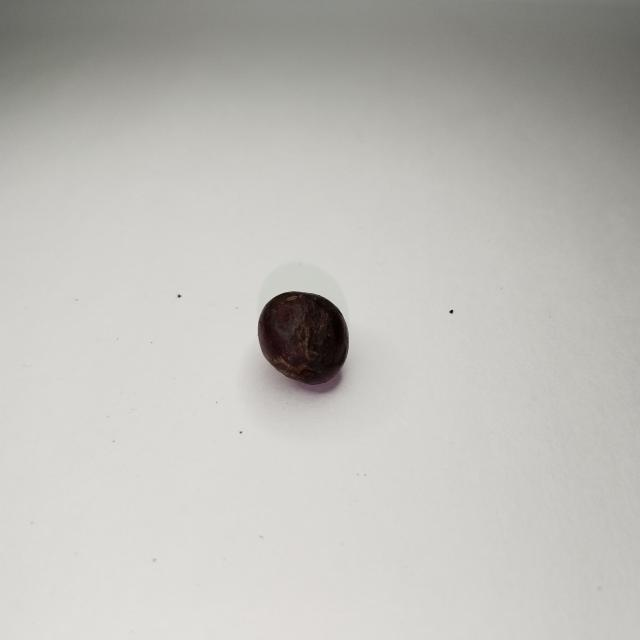Danado: (257, 290, 349, 390)
